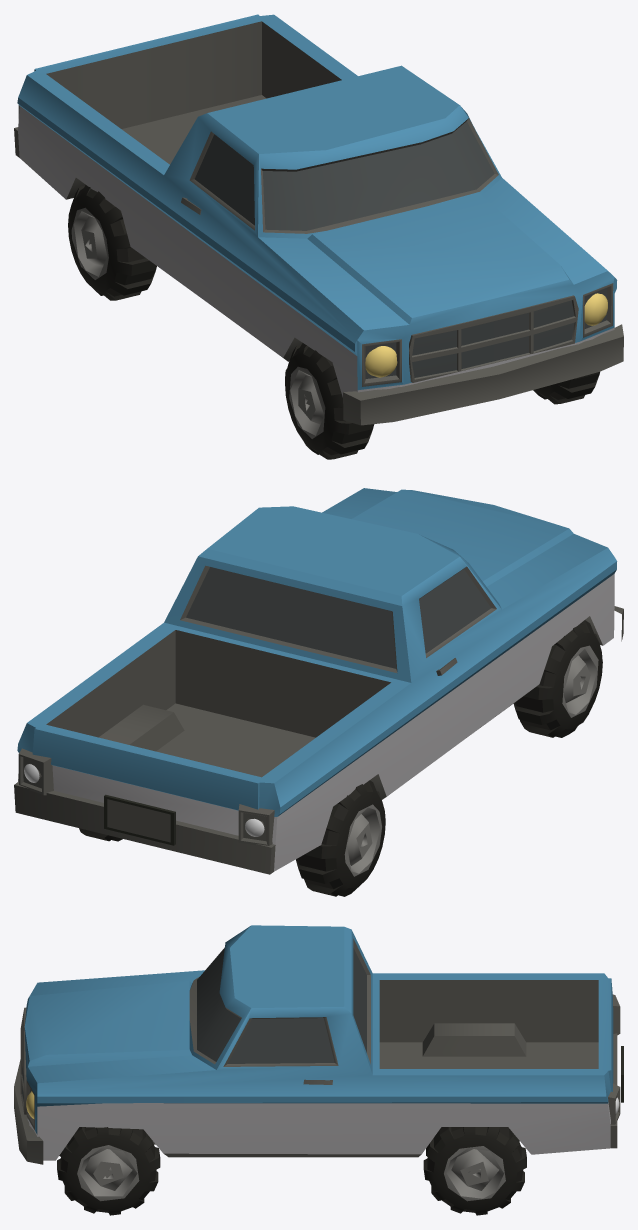
The model's file is technical.glb.
3 renders of one model, top to bottom at view 1: azimuth 30°, elevation 25°; view 2: azimuth 150°, elevation 25°; view 3: azimuth 270°, elevation 25°, orthographic. The views are drawn at different scales.
Parts seen in each view (by area): view 1: BackWheels, Pickup; view 2: BackWheels; view 3: BackWheels.
Boxes of the visible parts, <box> form: BackWheels: <box>14,14,623,459</box>; Pickup: <box>365,293,607,377</box>; BackWheels: <box>14,488,623,896</box>; BackWheels: <box>14,925,623,1215</box>.
Size of the model in its own units: 2.31 by 1.85 by 5.18.
3 materials, 1 textured.
